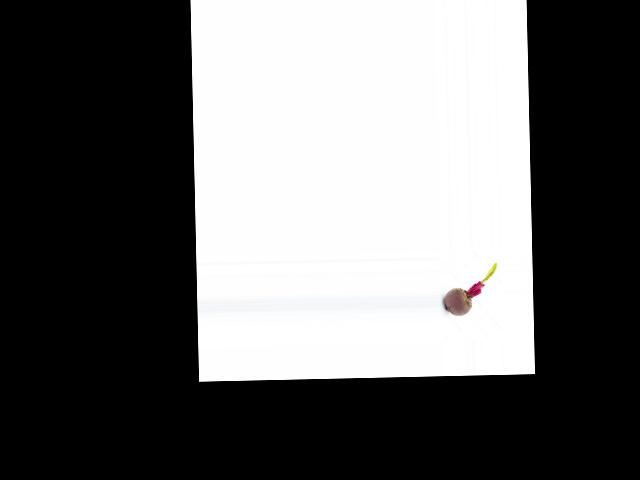beet: (443, 263, 497, 316)
